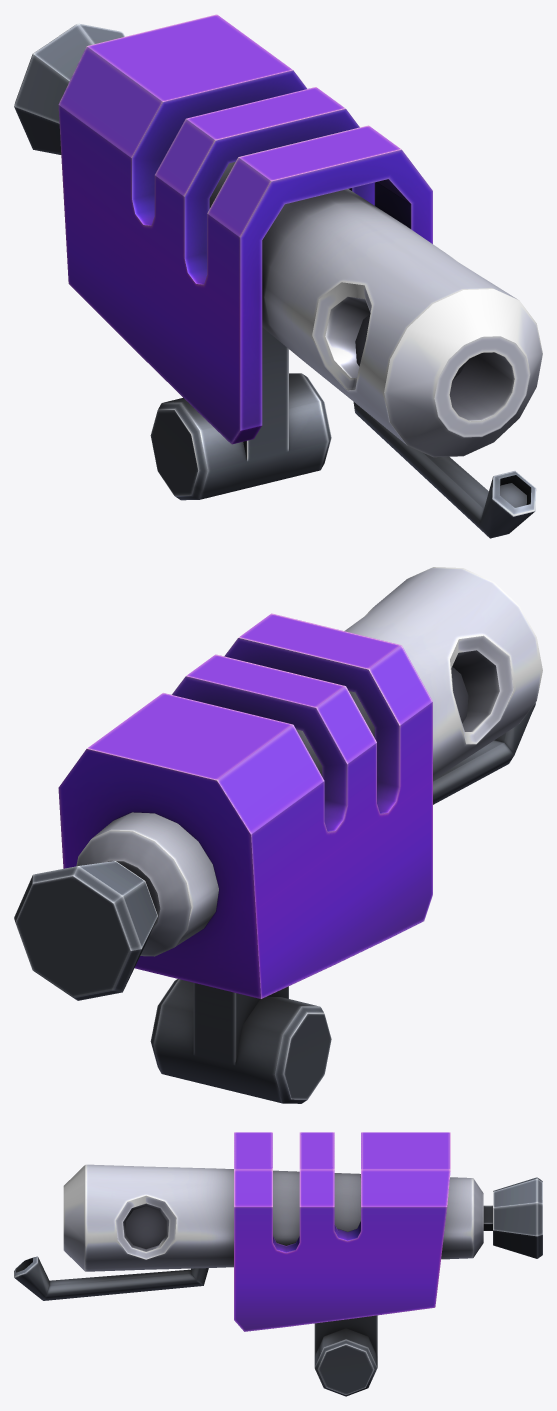
File: upper_flamethrowers_arena_2.fbx
The picture shows the model from 3 angles, top to bottom: view 1: azimuth 30°, elevation 25°; view 2: azimuth 150°, elevation 25°; view 3: azimuth 270°, elevation 25°; orthographic projection. The views are drawn at different scales.
Visible parts, largest first — view 1: Cylinder.093; view 2: Cylinder.093; view 3: Cylinder.093.
Part boxes in pixels (x1,y1,x2,y2): Cylinder.093: (14,14,542,538); Cylinder.093: (14,567,542,1103); Cylinder.093: (14,1132,542,1396).
Bounding box in the file's own units: 46.1 × 89.2 × 187.
